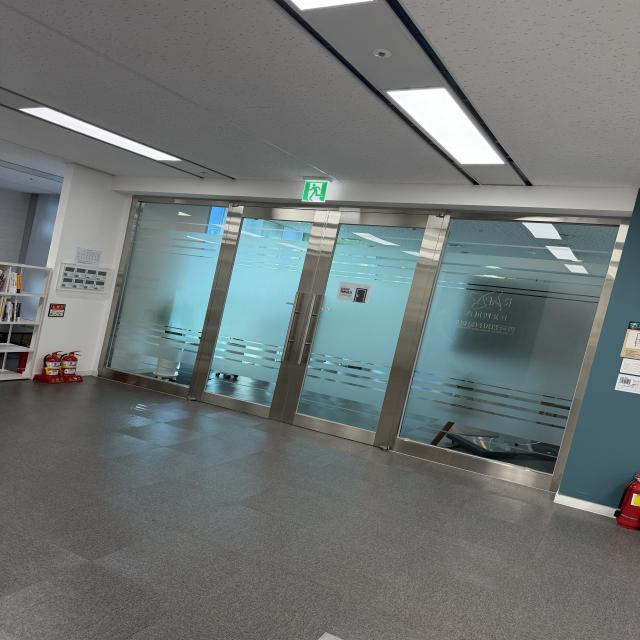front_door: (99, 194, 632, 501)
